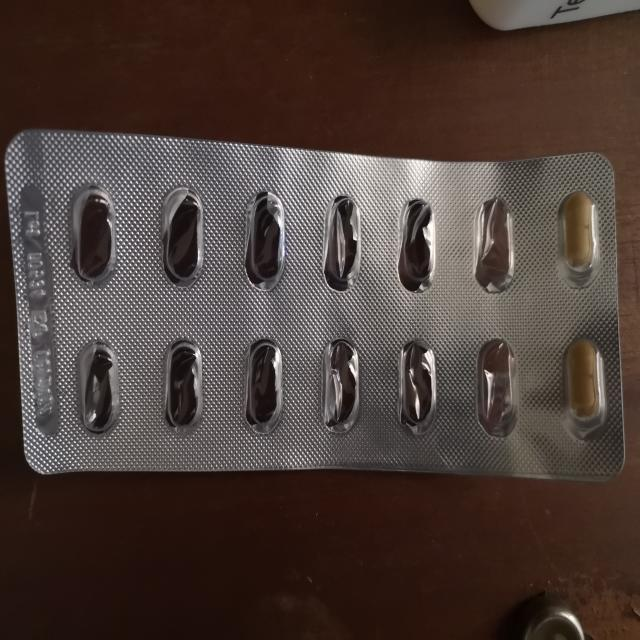Empty: (66, 325, 129, 443), (389, 324, 450, 438), (234, 331, 297, 439), (150, 176, 208, 292), (150, 329, 208, 441), (388, 189, 444, 299), (471, 329, 526, 441), (470, 183, 522, 299), (240, 177, 292, 290), (314, 189, 368, 295), (66, 180, 115, 292), (318, 331, 366, 439)
Pill: (553, 325, 616, 441), (554, 183, 606, 292)
